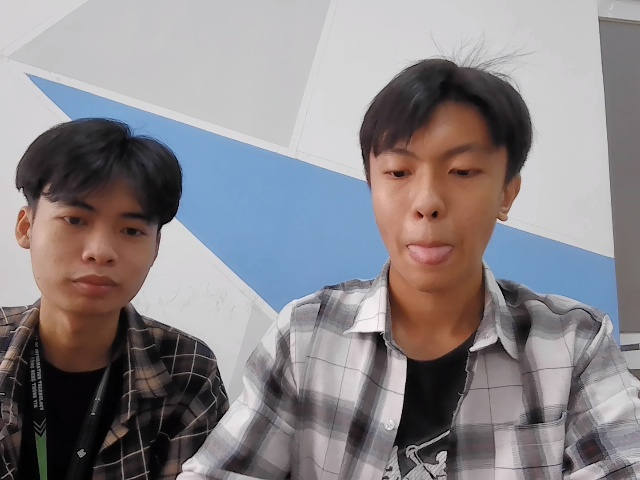human: (363, 58, 533, 281), (10, 122, 186, 318)
